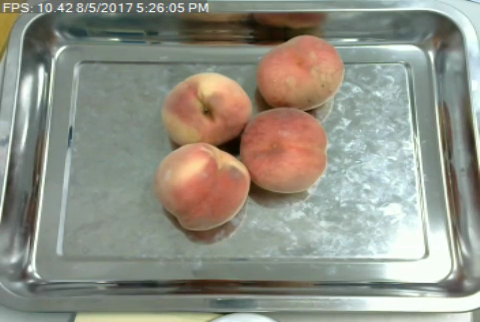Peach: (156, 142, 249, 231), (241, 105, 328, 194), (162, 69, 252, 150), (254, 35, 342, 109)
